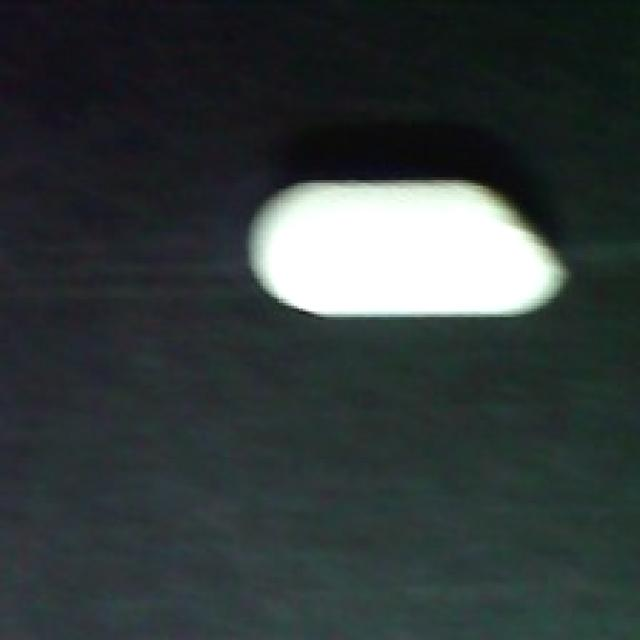defected: (246, 169, 577, 326)
